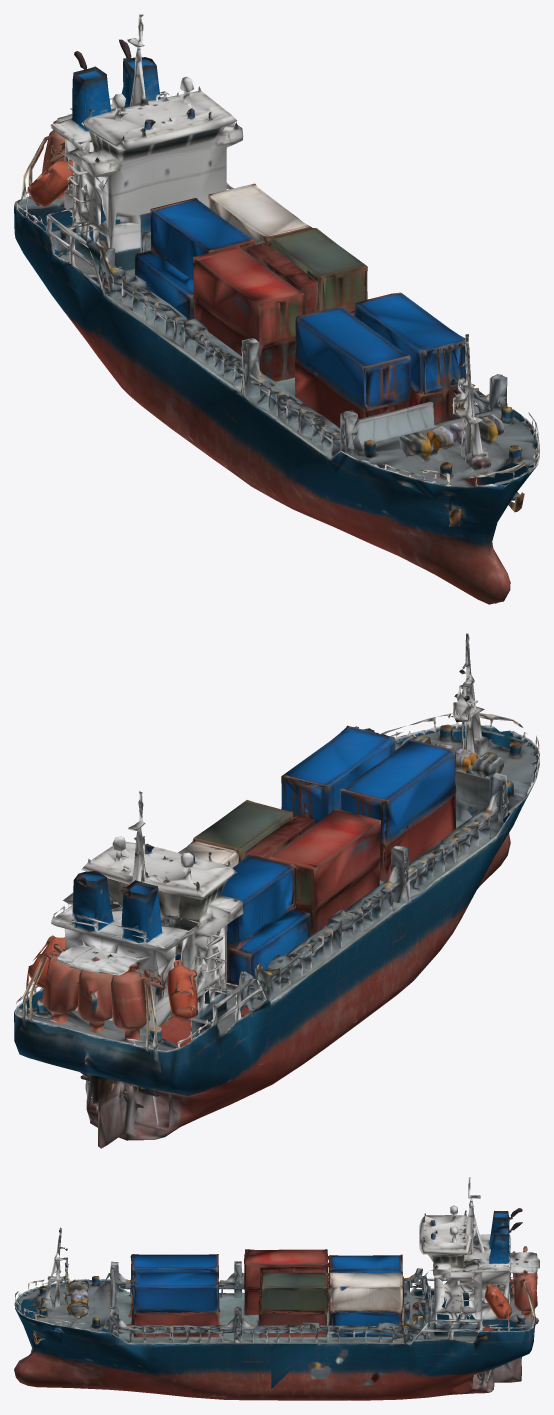
The model's file is hafen_frachtschiff.glb.
3 views of the same model, one above another, from view 1: azimuth 30°, elevation 25°; view 2: azimuth 150°, elevation 25°; view 3: azimuth 270°, elevation 25° (orthographic). The views are drawn at different scales.
Parts seen in each view (by area): view 1: Prop; view 2: Prop; view 3: Prop.
Boxes of the visible parts, left/top/right/bottom form: Prop: left=14, top=14, right=539, bottom=604; Prop: left=14, top=633, right=539, bottom=1148; Prop: left=14, top=1177, right=539, bottom=1400.
Size of the model in its own units: 0.5446 by 0.9985 by 2.27.
Materials: 1 (1 with a texture image).
